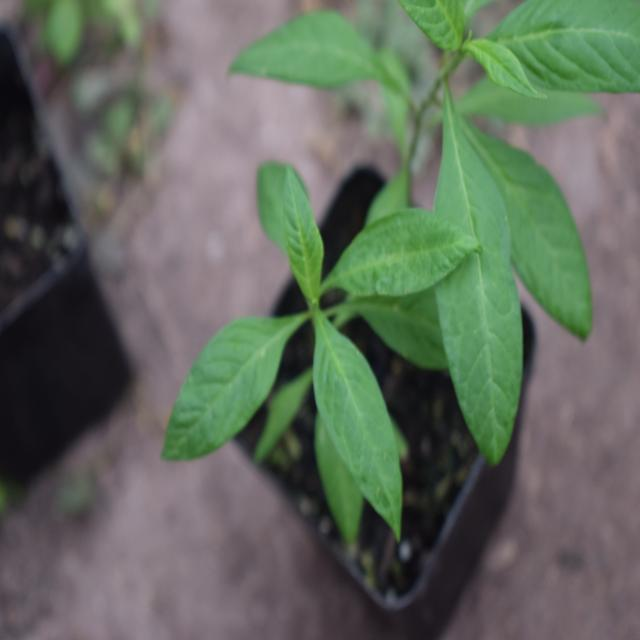white_smart_weed: (118, 161, 466, 541)
